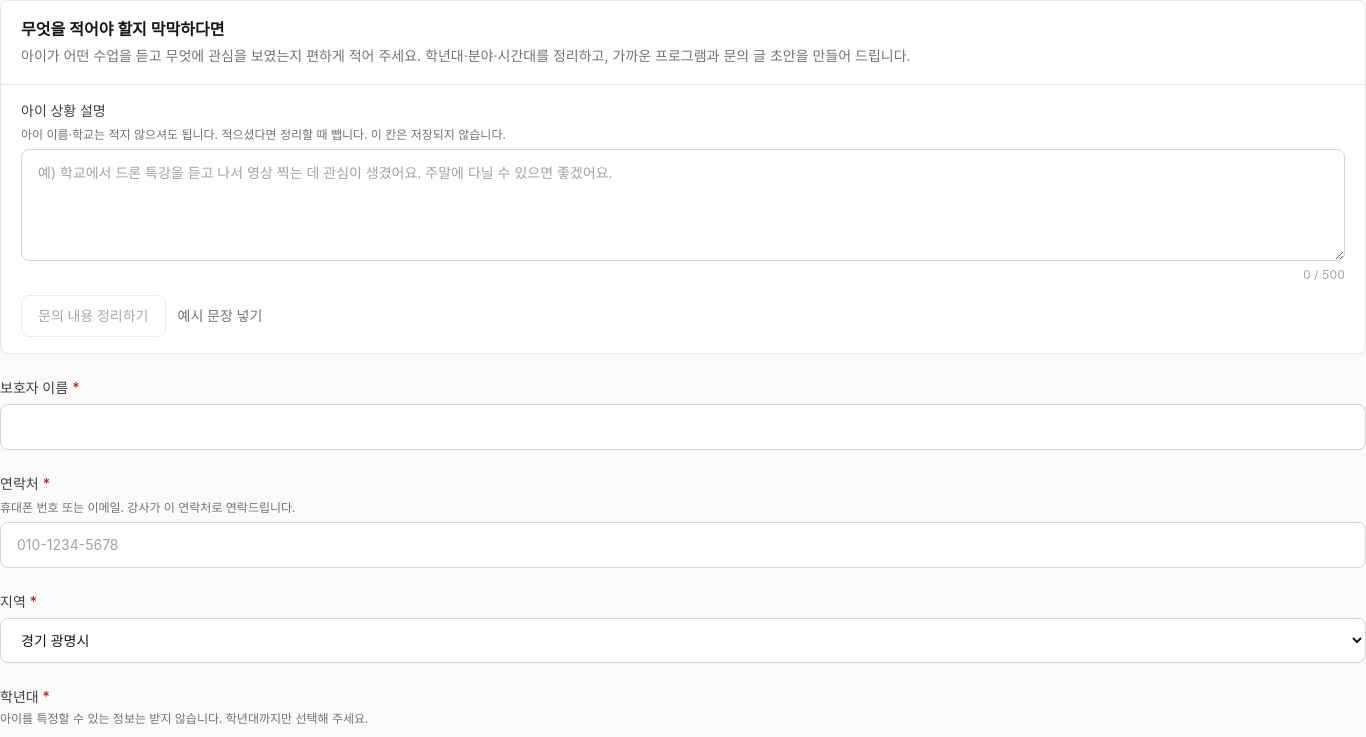
보호자 문의 도우미 › source 문구 — 시연 모드면 "시연용 AI 문장입니다"
Type "중학생 아들이 드론 특강 듣고 영상 찍는 데 푹 빠졌어요" into the text box labelled "아이 상황 설명".
click(683, 205); type("중학생 아들이 드론 특강 듣고 영상 찍는 데 푹 빠졌어요")  # box [21,149,1345,261]
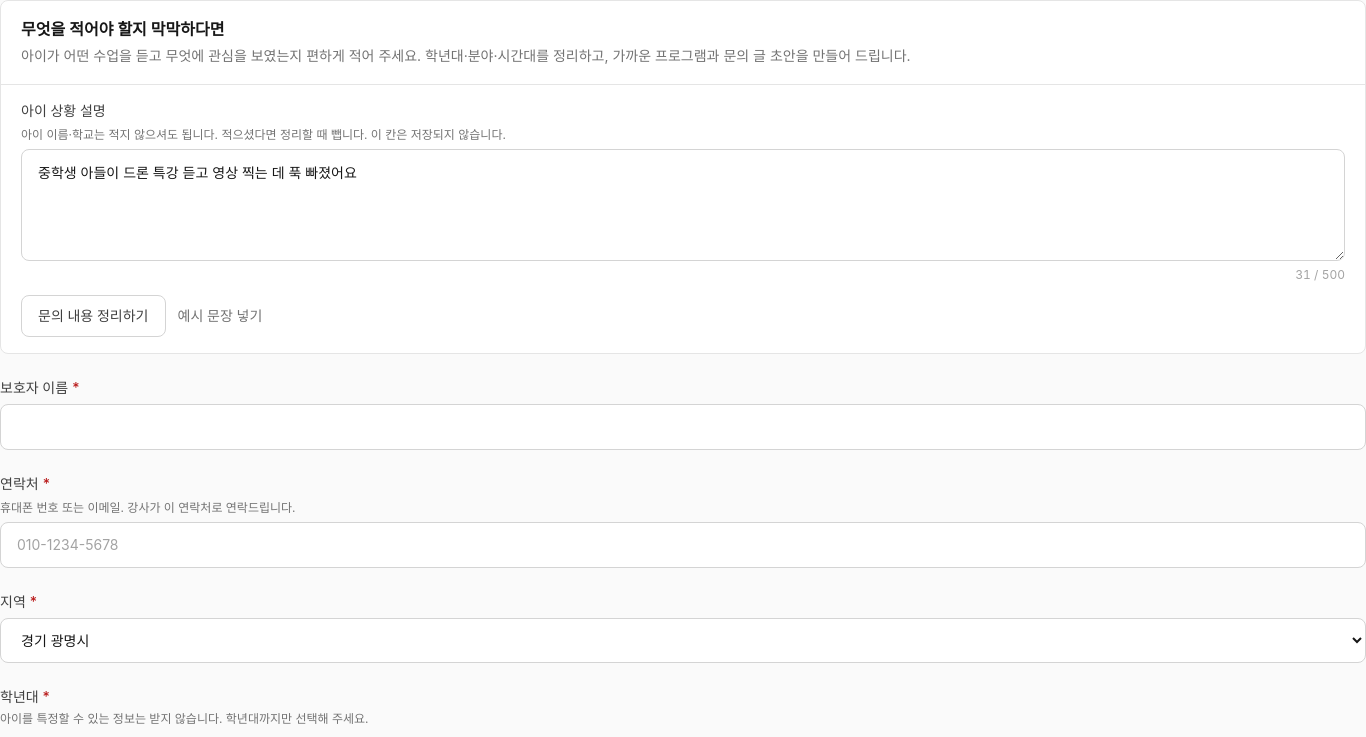
Click the button "문의 내용 정리하기".
click(93, 316)  # box [21,295,166,337]
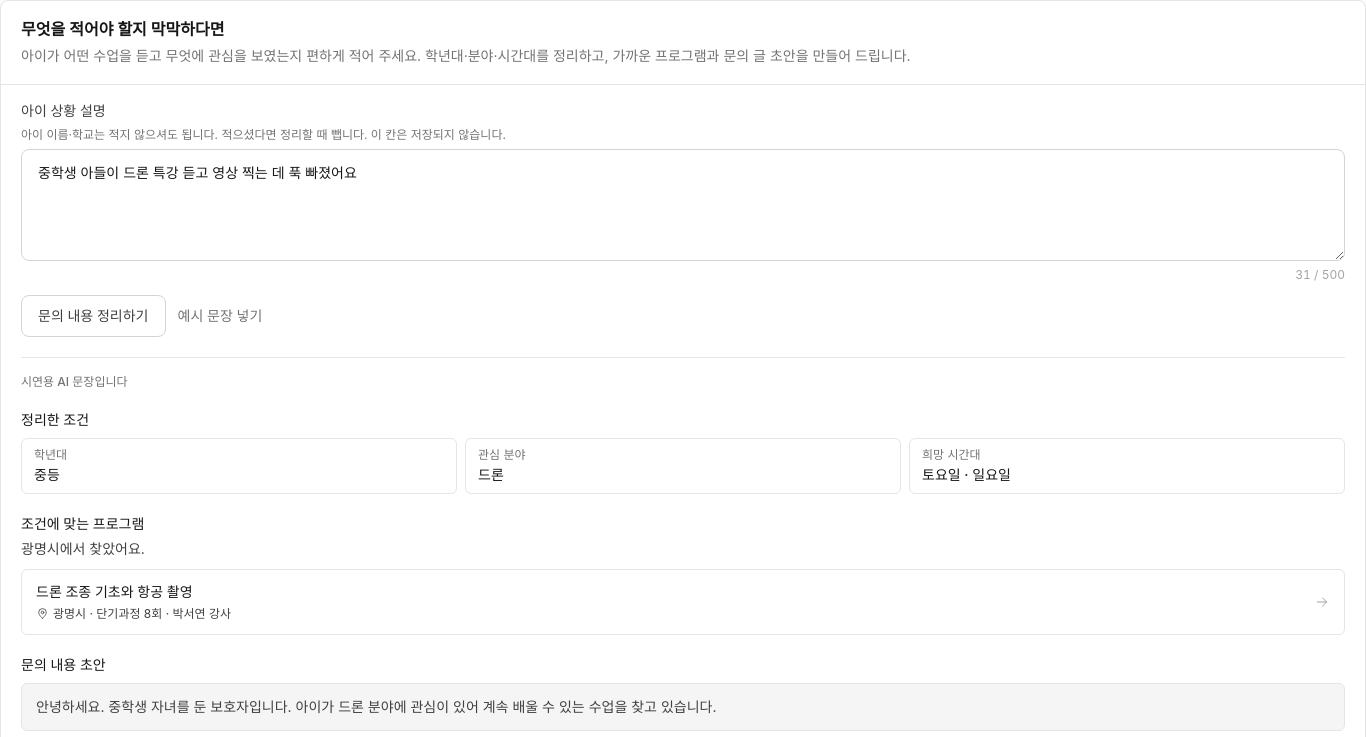
expect the text "안녕하세요. 중학생 자녀를 둔 보호자입니다. 아이가 드론 분야에 관심이 있어 계속 배울 수 있는 수업을 찾고 있습니다." is shown: met, box [21,682,1345,731]
expect the text "시연용 AI 문장입니다" is shown: met, box [21,374,128,389]
